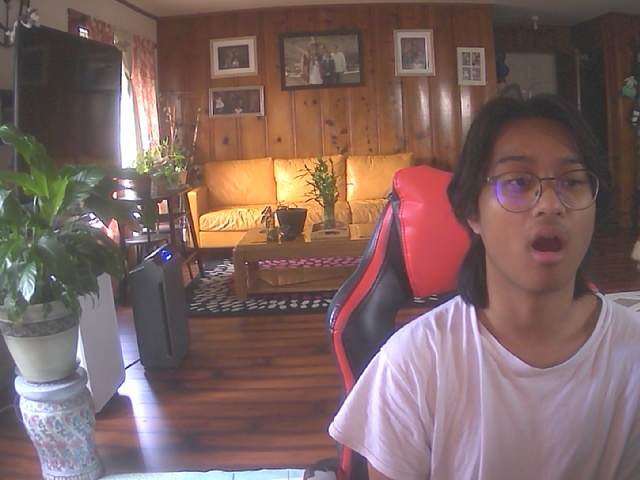fear: (462, 98, 617, 294)
